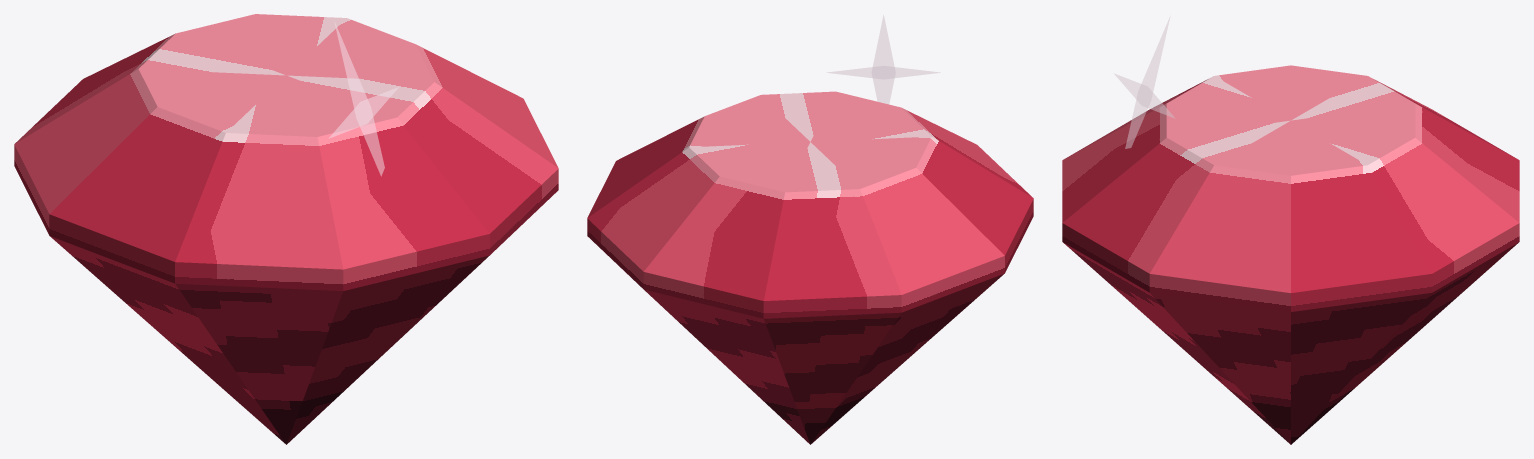
The model's file is money-gem.glb.
The picture shows the model from 3 angles, left to right: view 1: azimuth 30°, elevation 25°; view 2: azimuth 150°, elevation 25°; view 3: azimuth 270°, elevation 25°; orthographic projection. The views are drawn at different scales.
Parts seen in each view (by area): view 1: money.gem; view 2: money.gem; view 3: money.gem.
Boxes of the visible parts, x1=… form: money.gem: x1=14, y1=14, x2=558, y2=444; money.gem: x1=587, y1=15, x2=1033, y2=444; money.gem: x1=1062, y1=16, x2=1519, y2=444.
Bounding box in the file's own units: 1.83 × 1.77 × 1.74.
2 materials, 1 textured.
